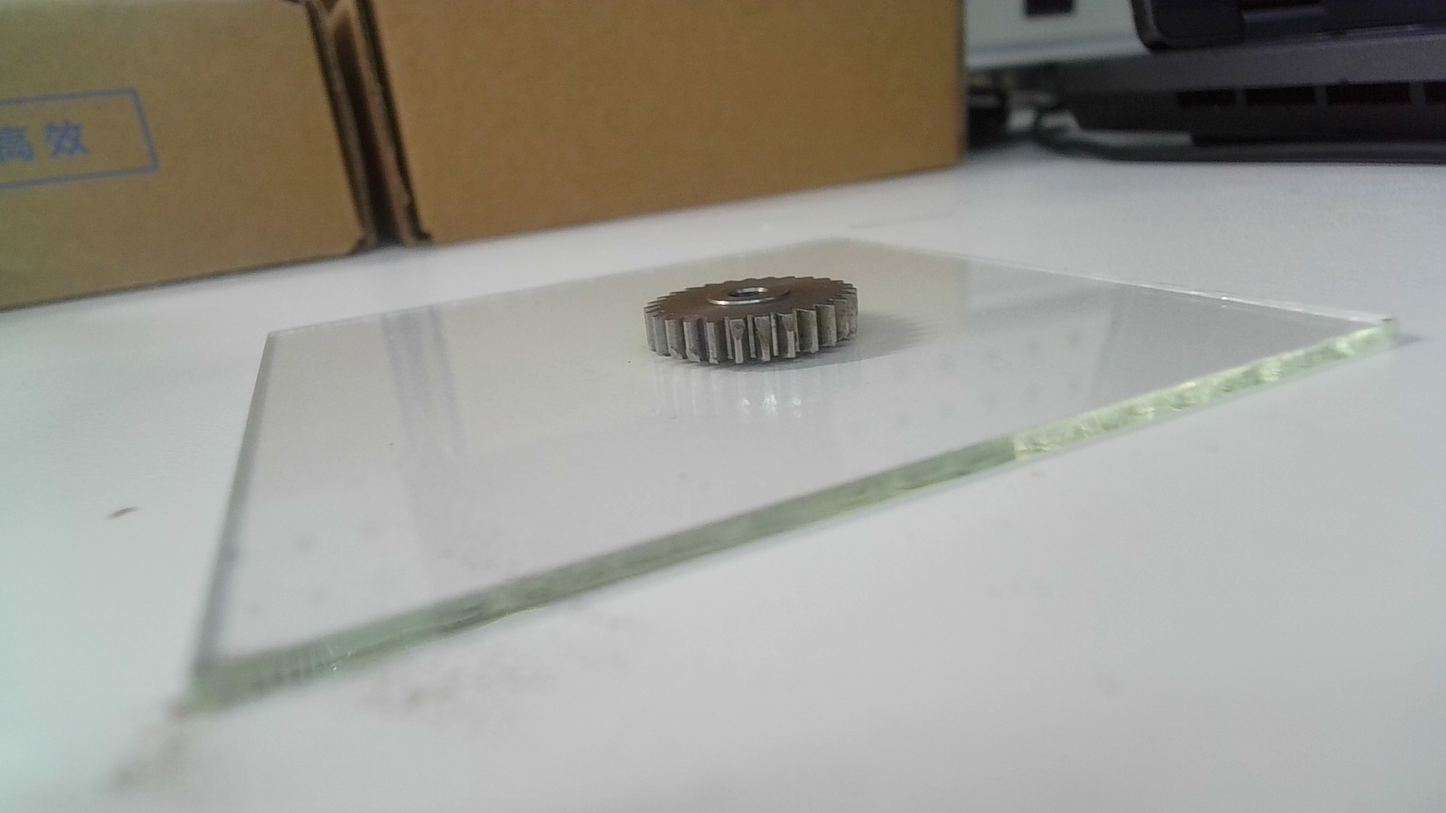gear: (646, 274, 860, 365)
